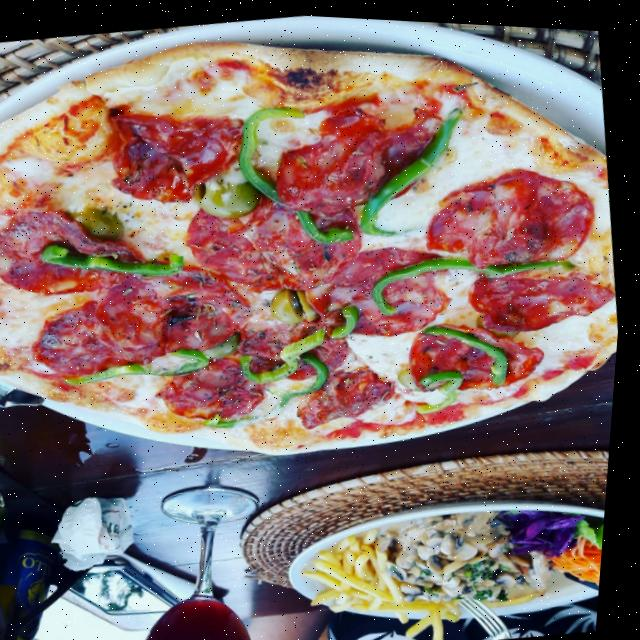pepperoni: (31, 276, 248, 382), (181, 185, 373, 304), (268, 98, 449, 218), (422, 154, 606, 271), (101, 92, 254, 204), (0, 195, 144, 292), (466, 247, 619, 334), (408, 305, 544, 402), (331, 245, 465, 337), (163, 343, 270, 425), (294, 351, 403, 429), (263, 304, 348, 375)
pizza: (0, 0, 640, 504)
